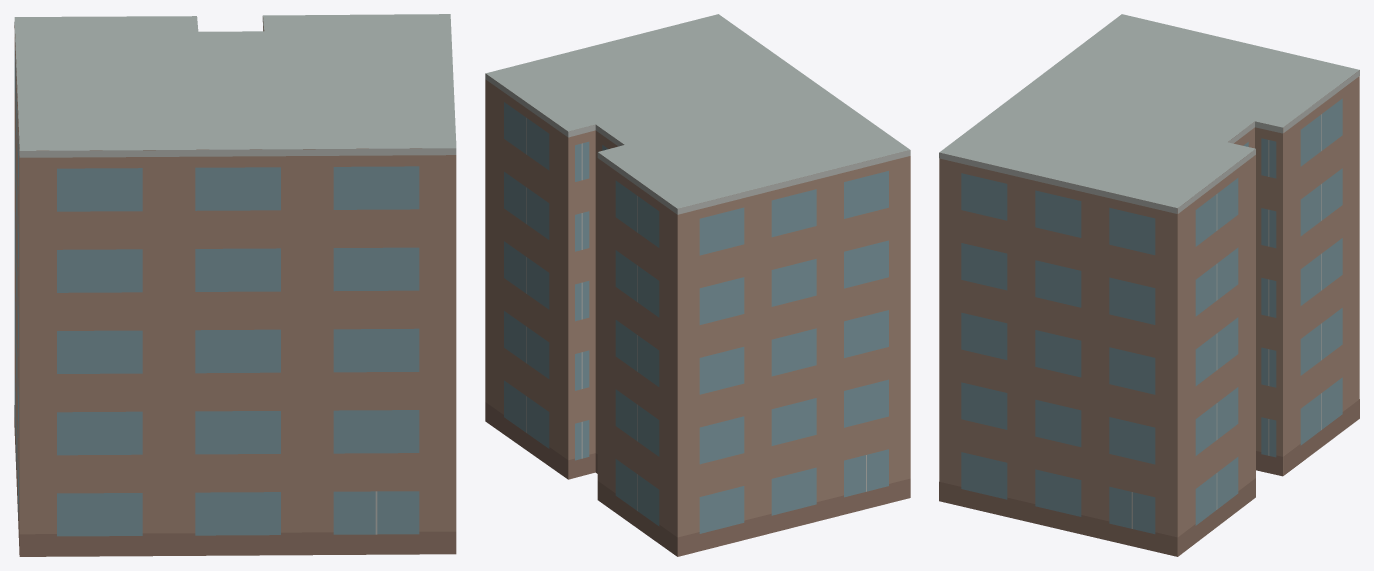
File: survey-upis-32944795.glb
3 renders of one model, left to right at view 1: azimuth 30°, elevation 25°; view 2: azimuth 150°, elevation 25°; view 3: azimuth 270°, elevation 25°, orthographic. The views are drawn at different scales.
Parts seen in each view (by area): view 1: survey-upis-32944795.tmp; view 2: survey-upis-32944795.tmp; view 3: survey-upis-32944795.tmp.
Part boxes in pixels (left/top/right/bottom): survey-upis-32944795.tmp: left=14, top=14, right=456, bottom=556; survey-upis-32944795.tmp: left=485, top=14, right=910, bottom=556; survey-upis-32944795.tmp: left=939, top=14, right=1359, bottom=556.
Bounding box in the file's own units: 17.09 × 14.3 × 15.64.
